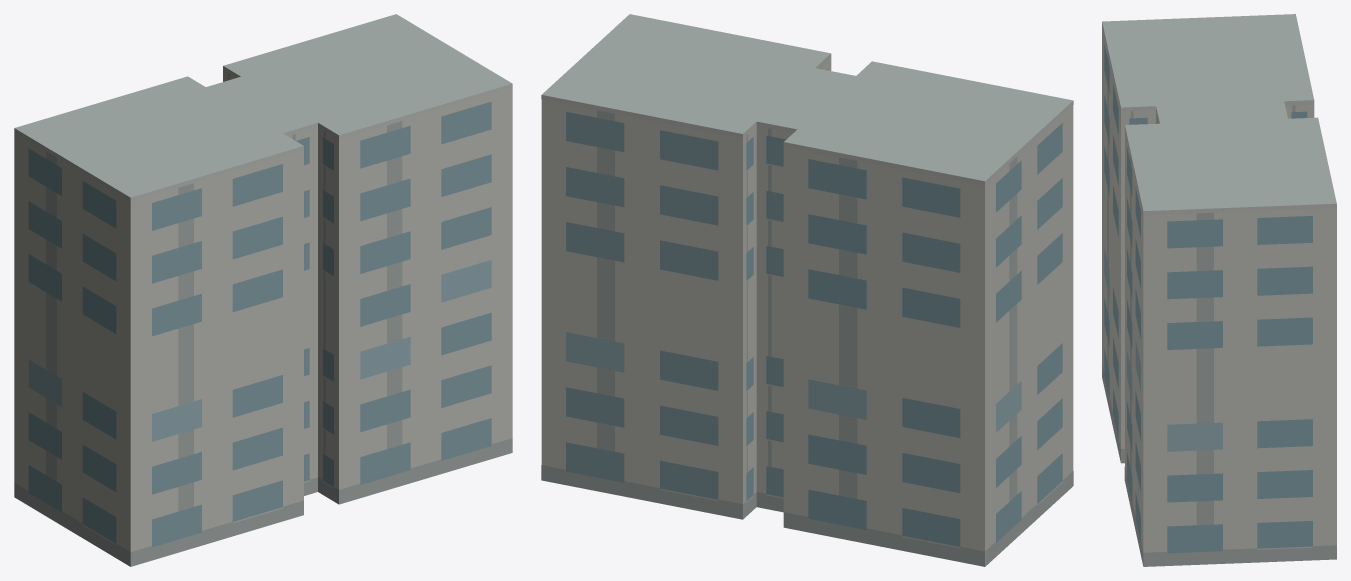
The model's file is survey-upis-32697173.glb.
The picture shows the model from 3 angles, left to right: view 1: azimuth 30°, elevation 25°; view 2: azimuth 150°, elevation 25°; view 3: azimuth 270°, elevation 25°; orthographic projection. The views are drawn at different scales.
Parts seen in each view (by area): view 1: survey-upis-32697173.tmp; view 2: survey-upis-32697173.tmp; view 3: survey-upis-32697173.tmp.
Boxes of the visible parts, <box> form: survey-upis-32697173.tmp: <box>14,14,512,566</box>; survey-upis-32697173.tmp: <box>541,14,1073,566</box>; survey-upis-32697173.tmp: <box>1102,14,1336,566</box>.
Bounding box in the file's own units: 24.2 × 20.35 × 12.18.
